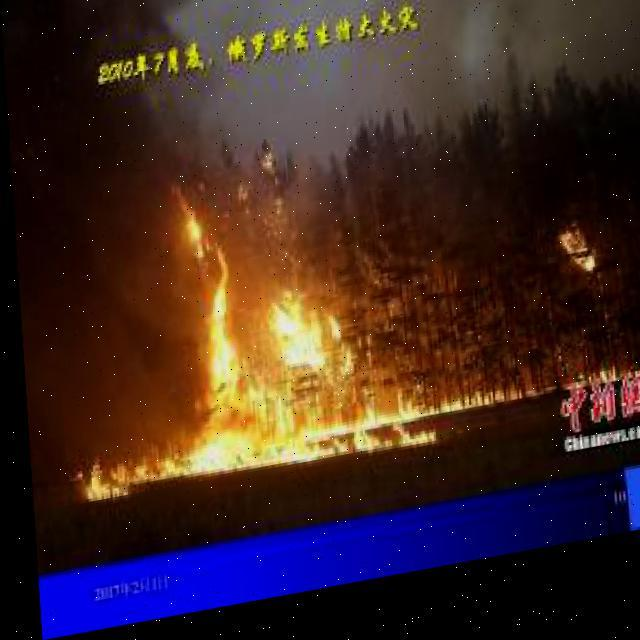Fire: (47, 178, 433, 510), (434, 367, 639, 438), (536, 239, 592, 296)
